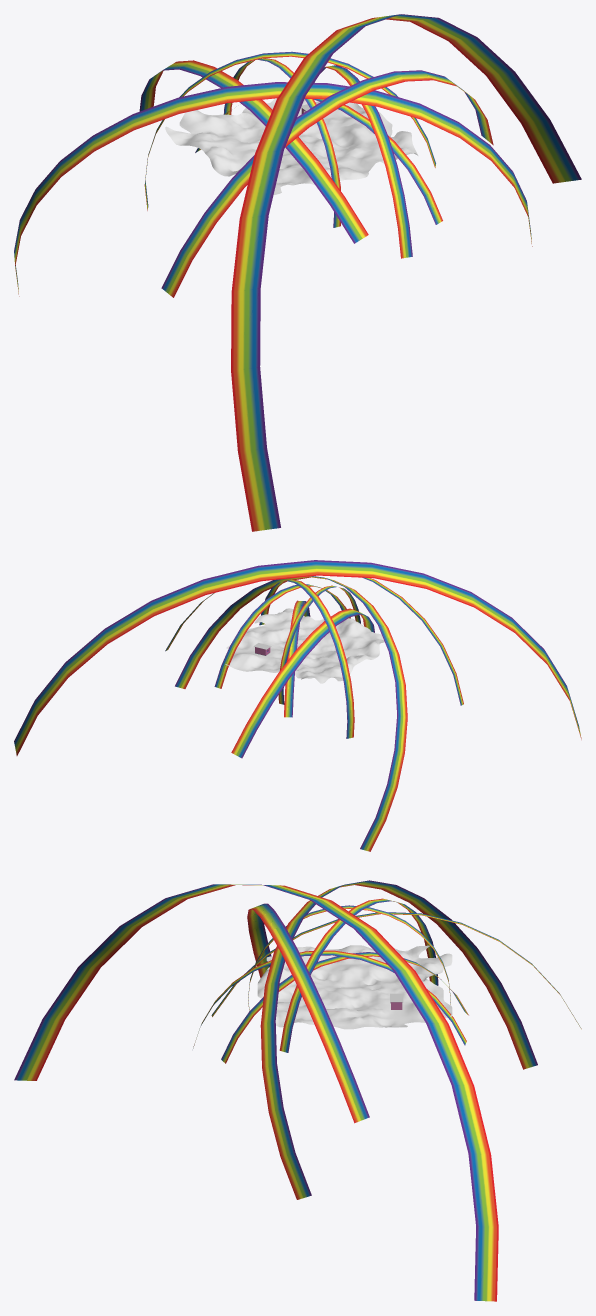
Rendered from House.fbx.
3 views of the same model, one above another, from view 1: azimuth 30°, elevation 25°; view 2: azimuth 150°, elevation 25°; view 3: azimuth 270°, elevation 25° (orthographic). The views are drawn at different scales.
Parts seen in each view (by area): view 1: Cylinder, Plane; view 2: Cylinder, Plane; view 3: Cylinder, Plane.
Part boxes in pixels (bbox=[...]): Cylinder: bbox=[14, 14, 581, 531]; Plane: bbox=[165, 98, 418, 195]; Cylinder: bbox=[14, 560, 581, 851]; Plane: bbox=[225, 608, 384, 683]; Cylinder: bbox=[14, 880, 581, 1301]; Plane: bbox=[257, 945, 452, 1029].
Bounding box in the file's own units: 51397 × 26875 × 48712.
